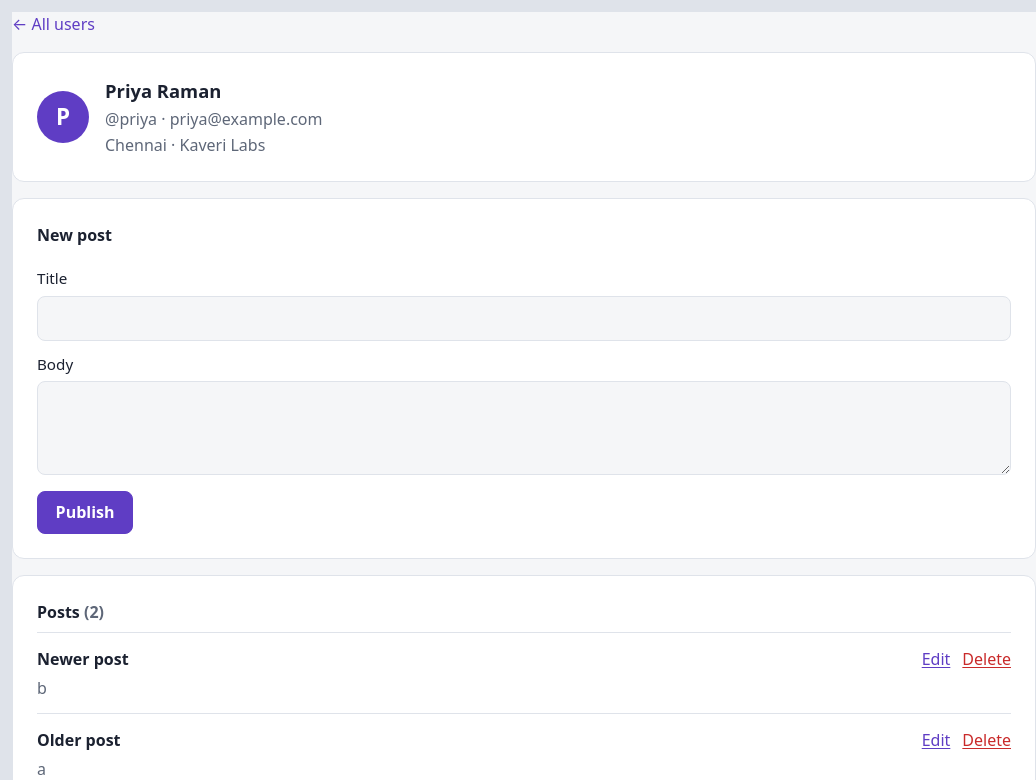
it: UserDetailComponent › validates, then POSTs a new post and prepends it
The width and height of the screenshot is (1036, 780).
Submit the form, box left=37, top=255, right=1011, bottom=534
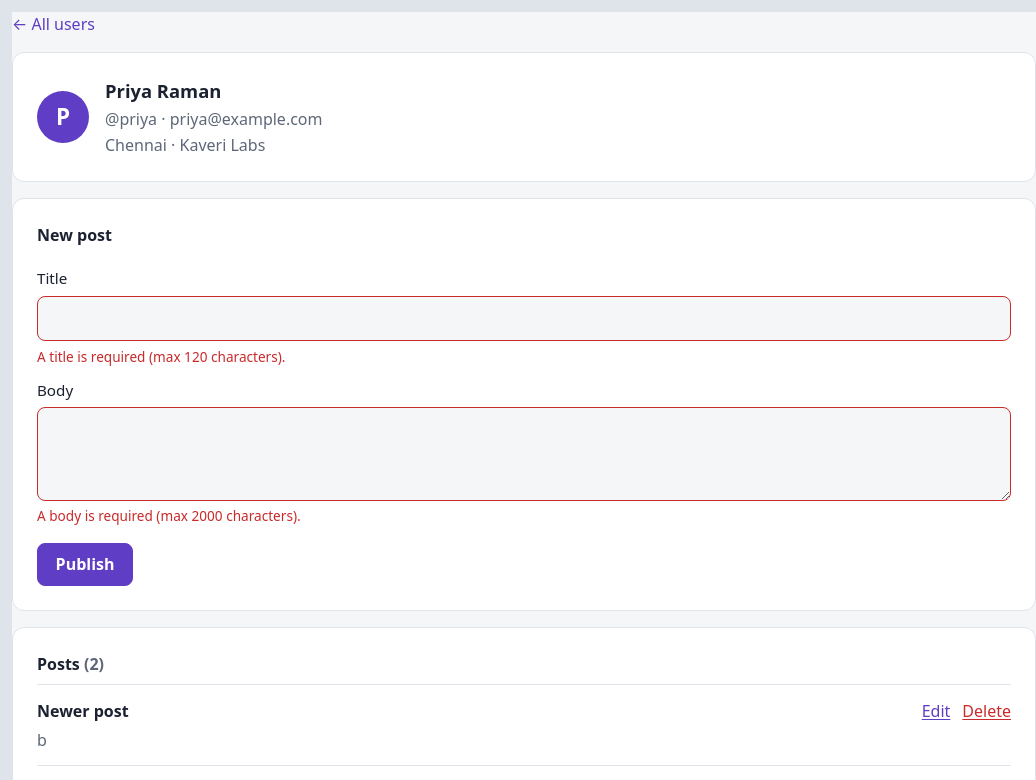
Expected: the text "A title is required" is shown, left=37, top=347, right=286, bottom=366
Type " Hello " into the field with id "title" at {"x": 524, "y": 318}, box left=37, top=296, right=1011, bottom=341
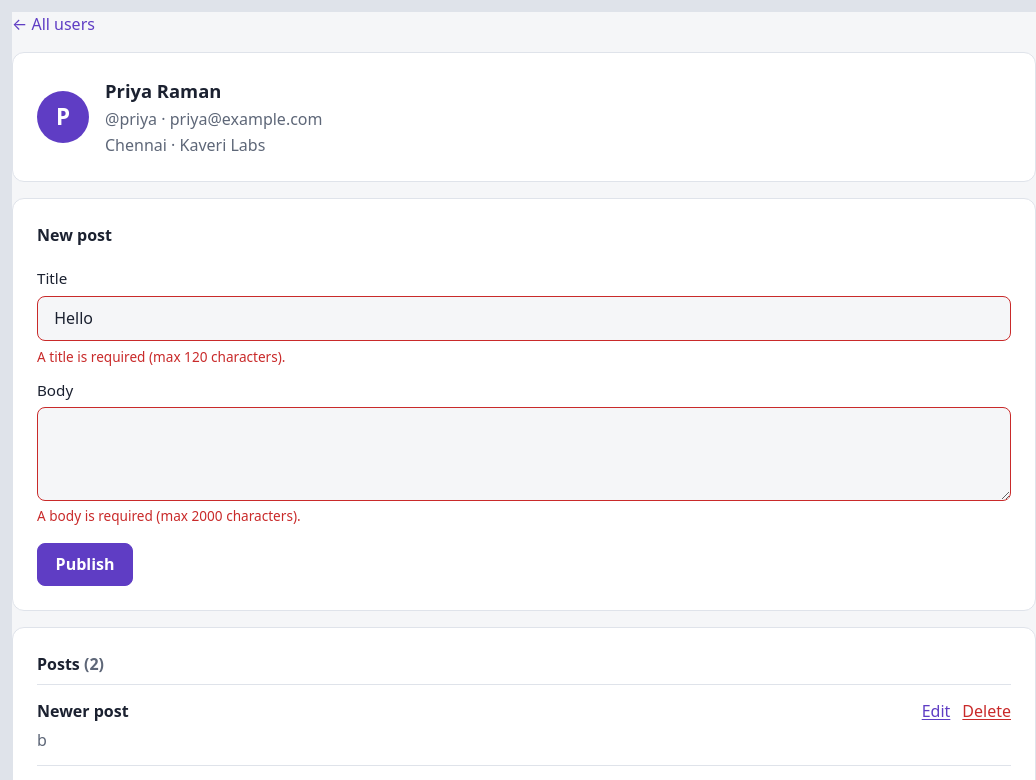
Type "World" into the text box with id "body" at {"x": 524, "y": 454}, box left=37, top=407, right=1011, bottom=500
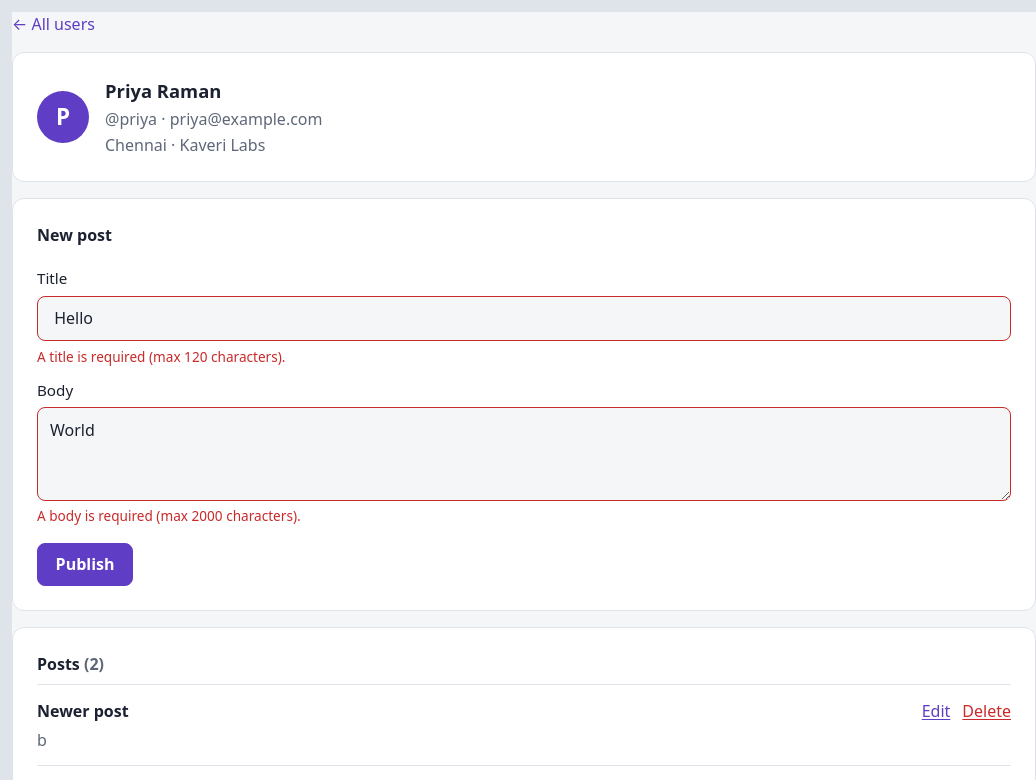
Submit the form, box left=37, top=255, right=1011, bottom=586
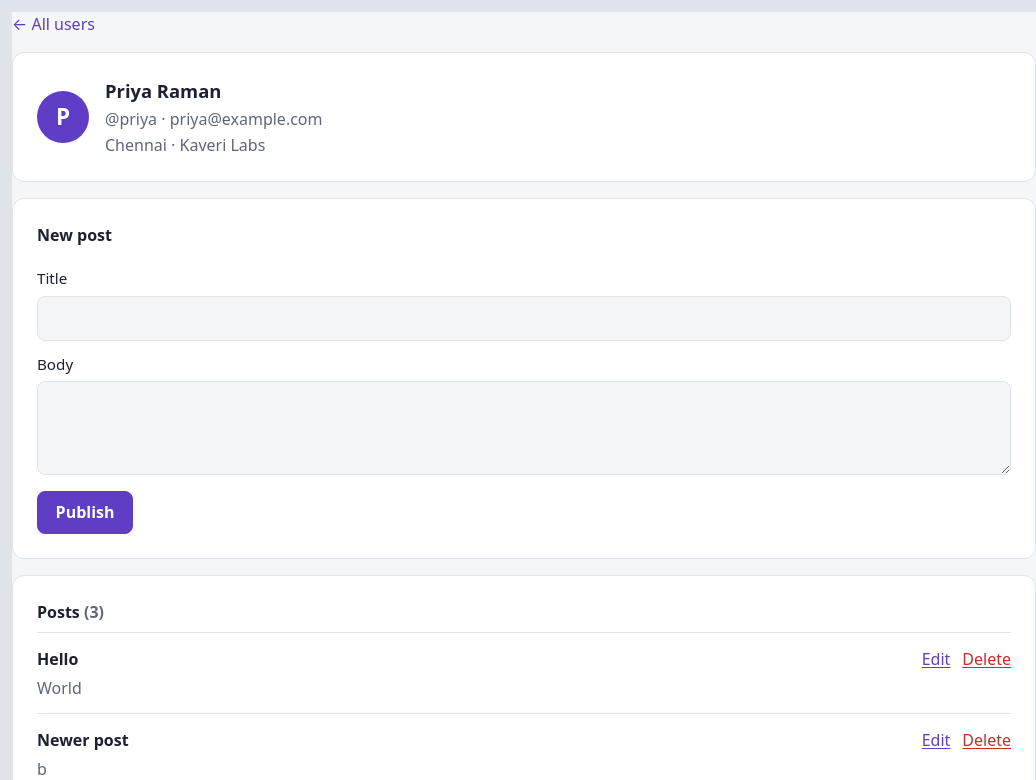
Expected: the text "Hello" is shown, left=37, top=647, right=78, bottom=671
